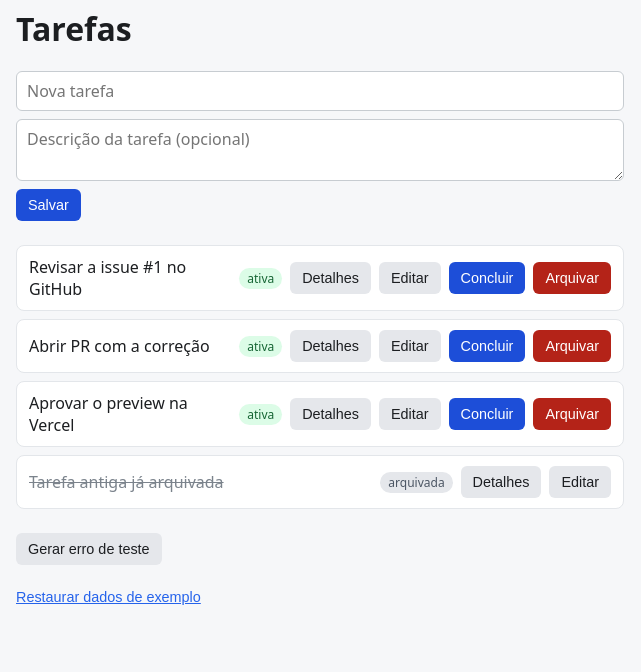
Page › mostra a descrição completa da tarefa selecionada e atualiza ao selecionar outra
Click the button "Detalhes" in the row of "Revisar a issue #1 no GitHub".
click(331, 278)  # box [290,262,371,294]
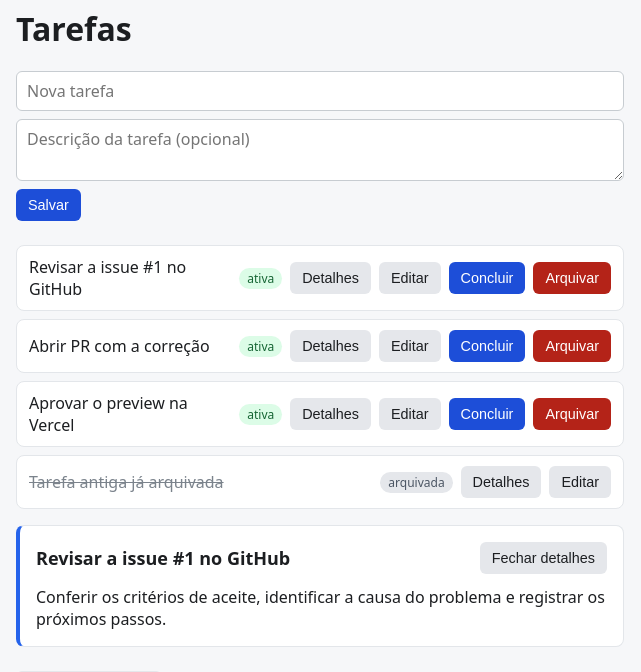
Now the element "Revisar a issue #1 no GitHub" shows "Conferir os critérios de aceite, identificar a causa do problema e registrar os próximos passos.", box [36,586,609,630]
Click the button "Detalhes" in the row of "Abrir PR com a correção".
click(331, 346)  # box [290,330,371,362]
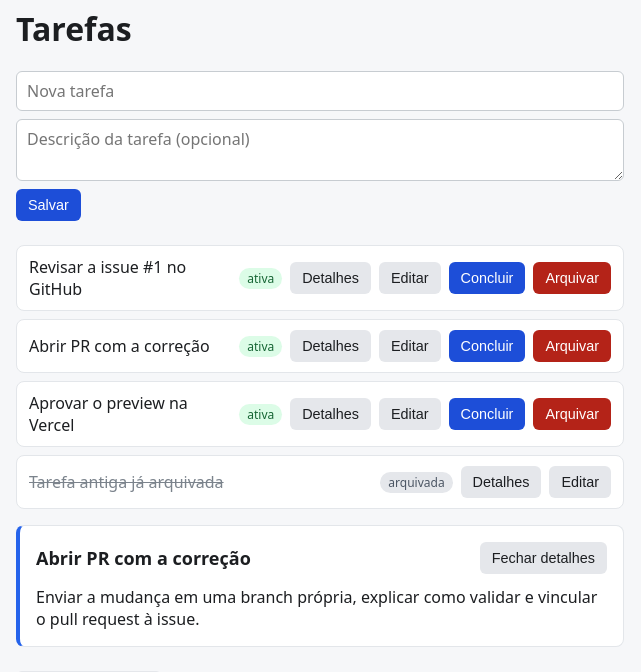
Now the element "Abrir PR com a correção" shows "Enviar a mudança em uma branch própria", box [36,586,602,630]
